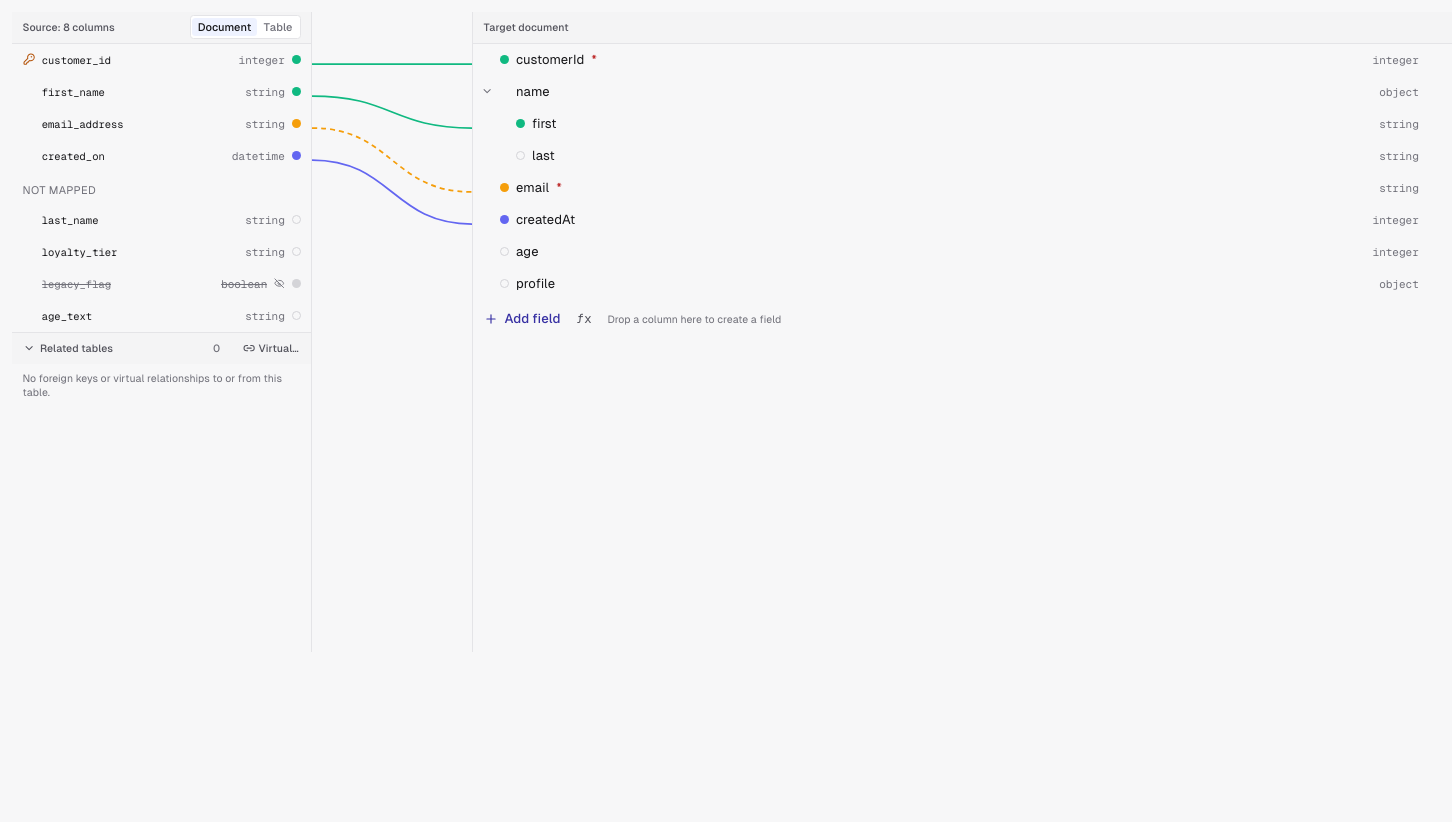
Test: Add computed field › OC-138 AC2: ƒx adds a template field, selected, with the ƒx badge
Click the button with aria-label "Add computed field" at (584, 319), box [571,306,597,331]
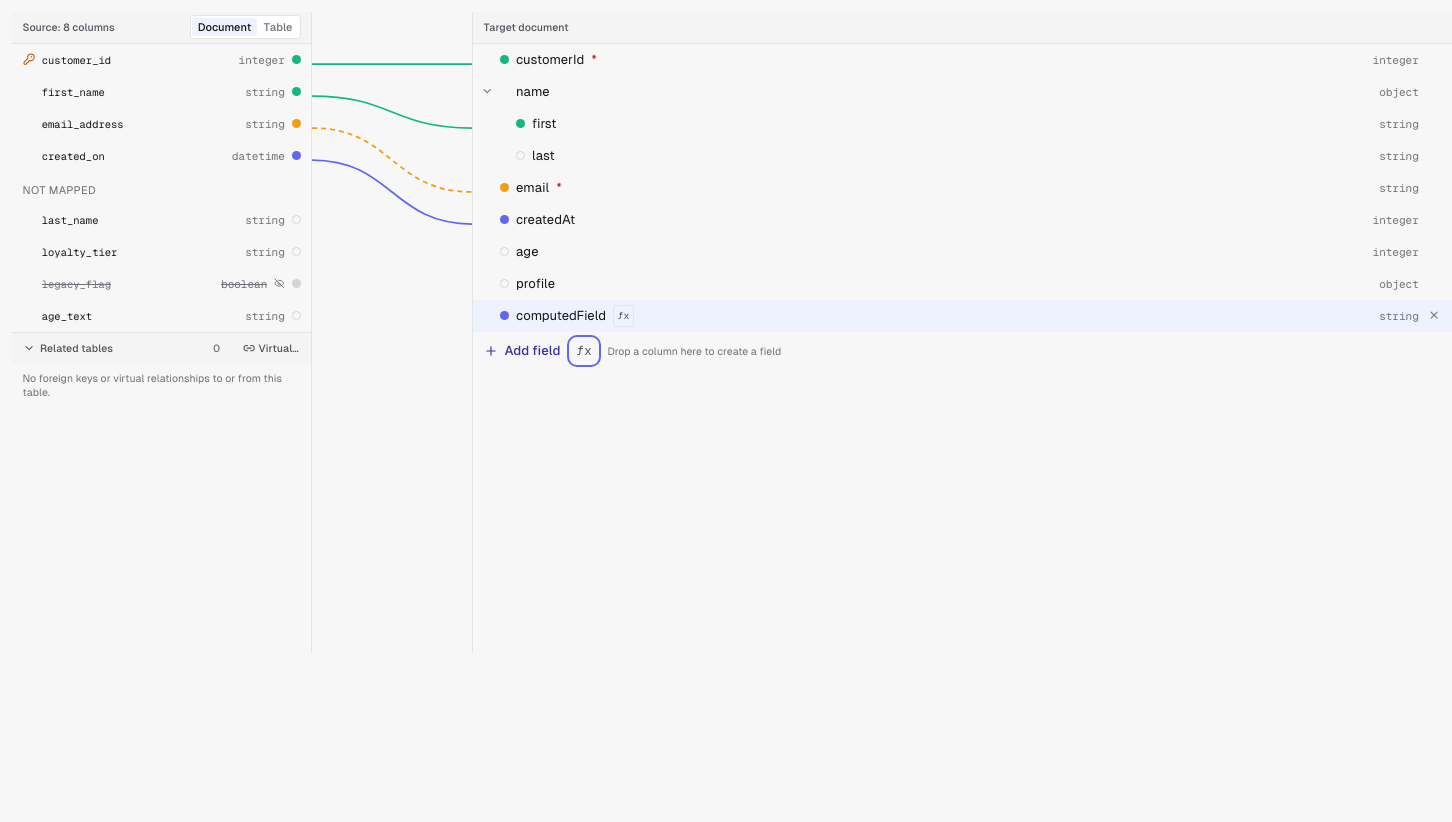
expect the text titled "Computed:" reads "ƒx": met, box [618,308,630,322]
